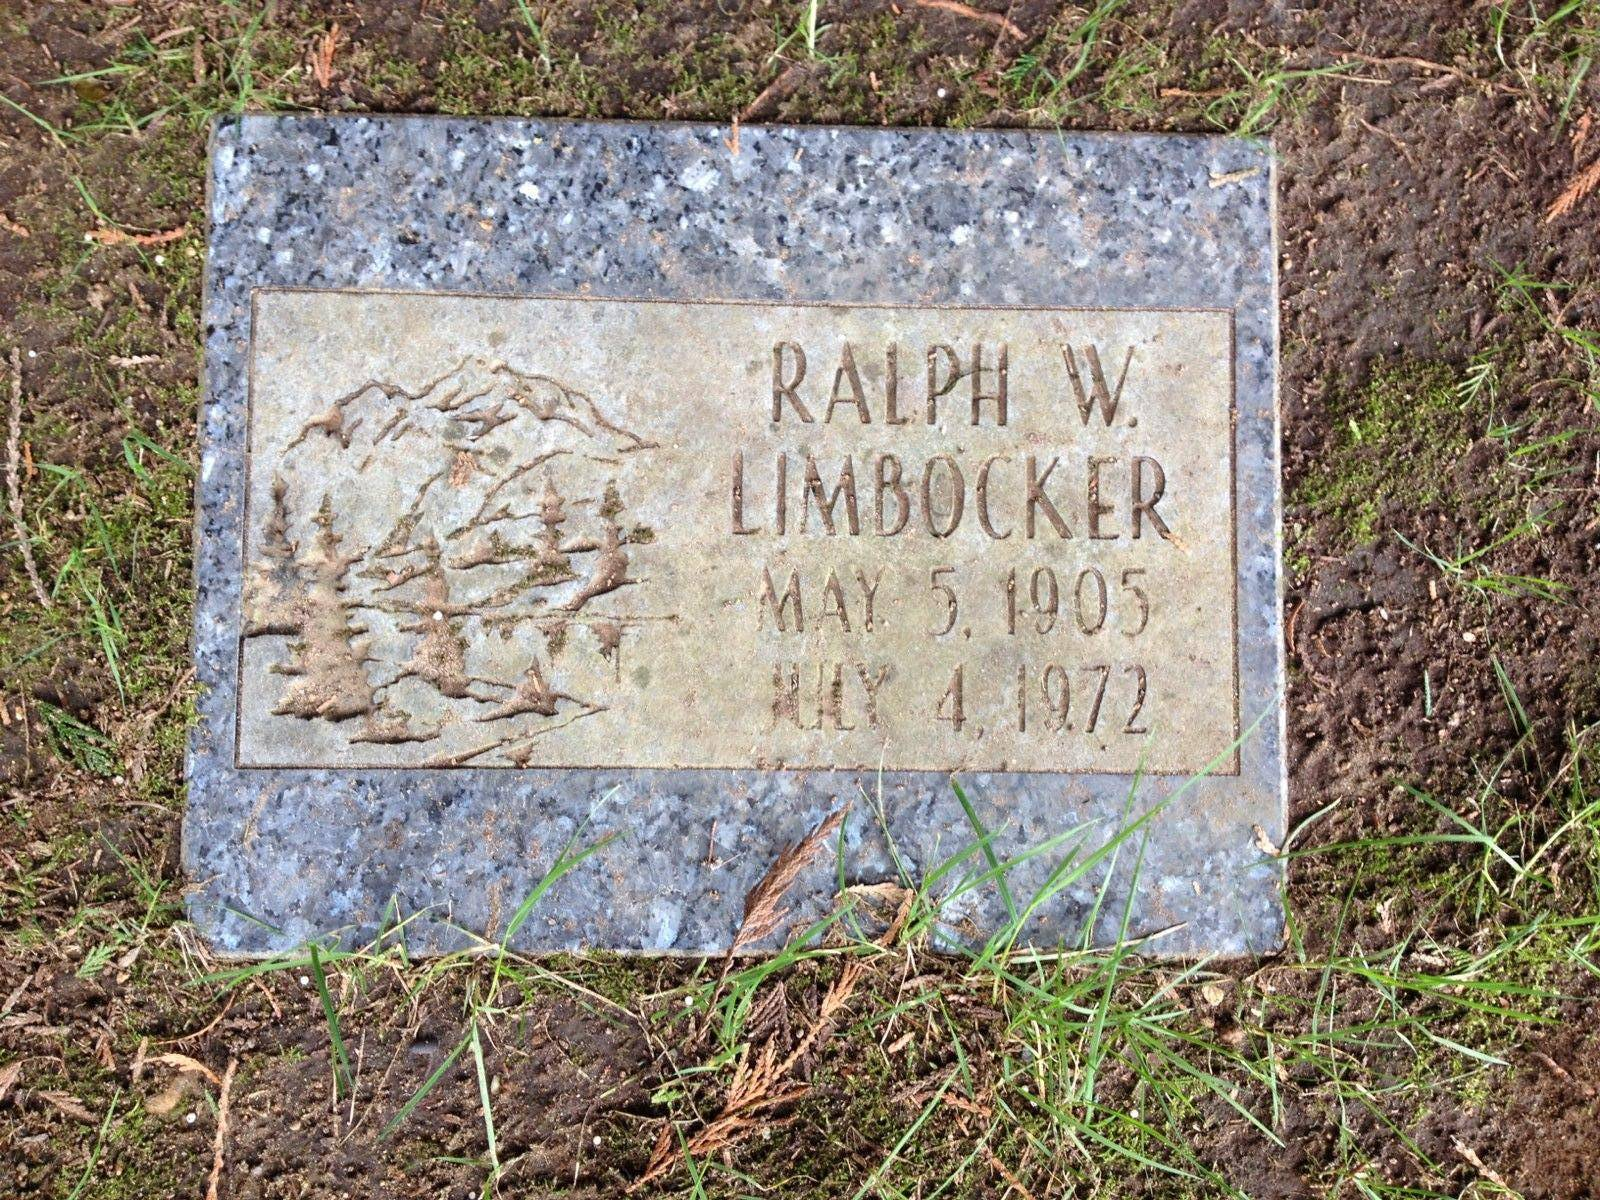flat: (173, 106, 1301, 962)
